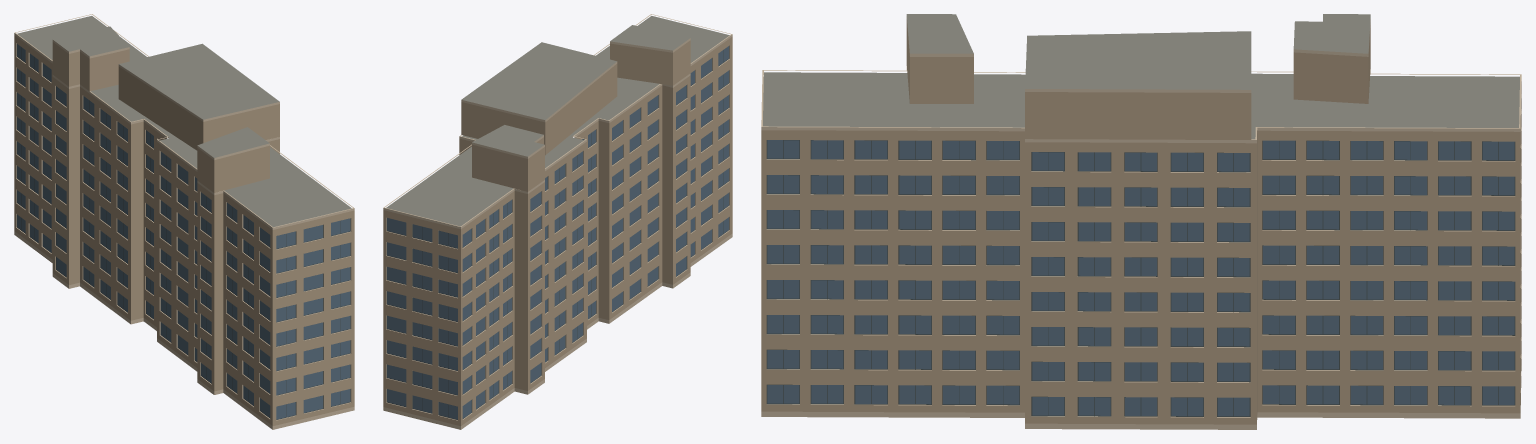
The model's file is dc-au-leonard-hall.detail.glb.
3 renders of one model, left to right at view 1: azimuth 30°, elevation 25°; view 2: azimuth 150°, elevation 25°; view 3: azimuth 270°, elevation 25°, orthographic. The views are drawn at different scales.
Parts seen in each view (by area): view 1: Leonard Hall; view 2: Leonard Hall; view 3: Leonard Hall.
Part boxes in pixels (x1,y1,x2,y2): Leonard Hall: [14, 14, 354, 429]; Leonard Hall: [383, 14, 732, 429]; Leonard Hall: [761, 14, 1521, 429].
Size of the model in its own units: 16.84 by 35.2 by 71.31.
